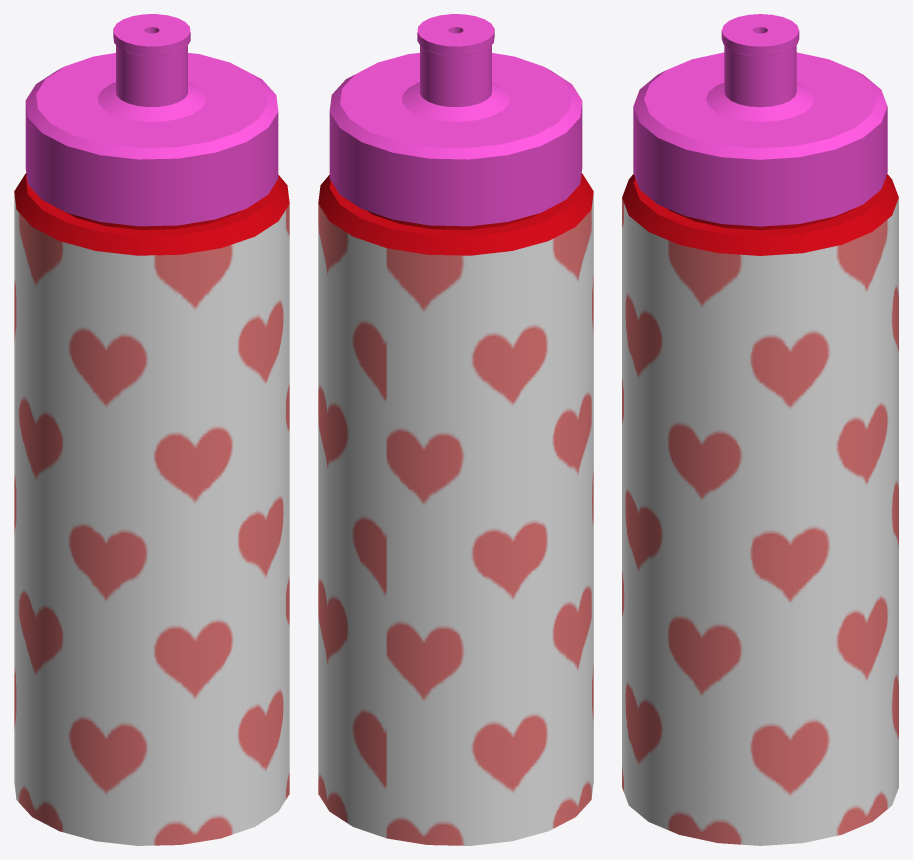
Rendered from botol2.fbx.
3 views of the same model, side by side, from view 1: azimuth 30°, elevation 25°; view 2: azimuth 150°, elevation 25°; view 3: azimuth 270°, elevation 25° (orthographic).
Parts seen in each view (by area): view 1: pCylinder1; view 2: pCylinder1; view 3: pCylinder1.
Part boxes in pixels (x1=…): pCylinder1: x1=14, y1=14, x2=289, y2=845; pCylinder1: x1=318, y1=14, x2=593, y2=845; pCylinder1: x1=622, y1=14, x2=898, y2=845.
Size of the model in its own units: 5.61 by 16.92 by 5.61.
